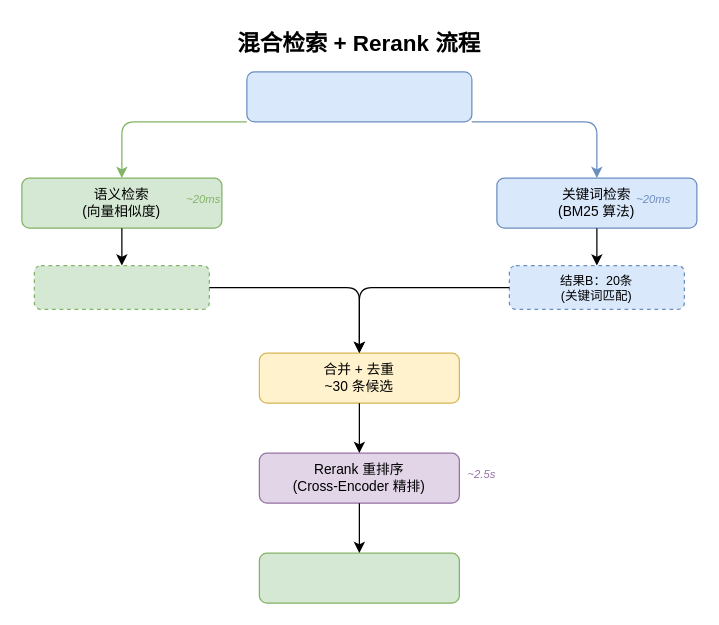
The diagram is 719 pixels wide and 625 high, and some of its shapes have lost their labels. The centre of each missing label's shape, as x and y in pixels:
最终 Top-5 高质量结果: [358,577]
用户查询： "国土空间规划法第八条": [359,96]
结果A：20条 (语义相关): [121,286]
